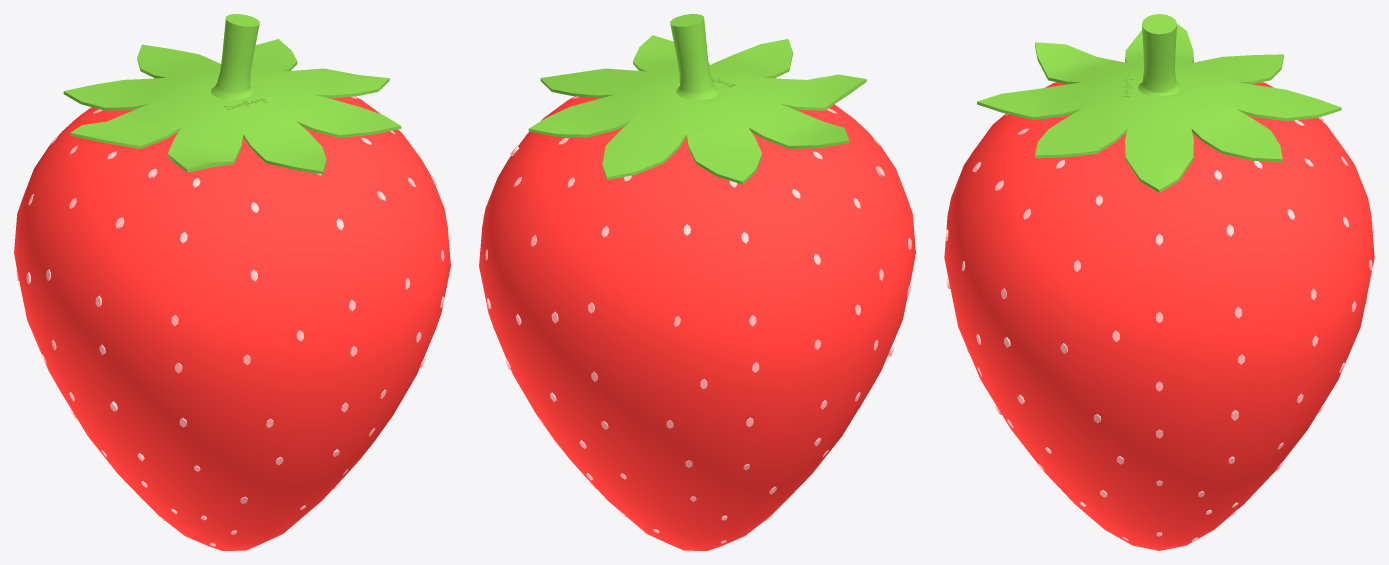
The model's file is strawberry.gltf.
3 renders of one model, left to right at view 1: azimuth 30°, elevation 25°; view 2: azimuth 150°, elevation 25°; view 3: azimuth 270°, elevation 25°, orthographic.
Visible parts, largest first — view 1: Cube.004; view 2: Cube.004; view 3: Cube.004.
Boxes of the visible parts, bbox=[...] form: Cube.004: bbox=[14, 14, 450, 550]; Cube.004: bbox=[479, 14, 915, 550]; Cube.004: bbox=[944, 14, 1374, 550].
Size of the model in its own units: 1.75 by 2.37 by 1.75.
1 material, 1 textured.
